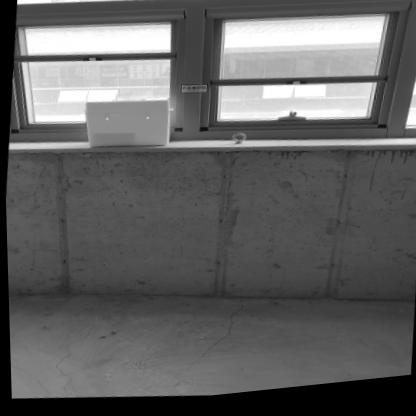DDL: (84, 95, 171, 159)
